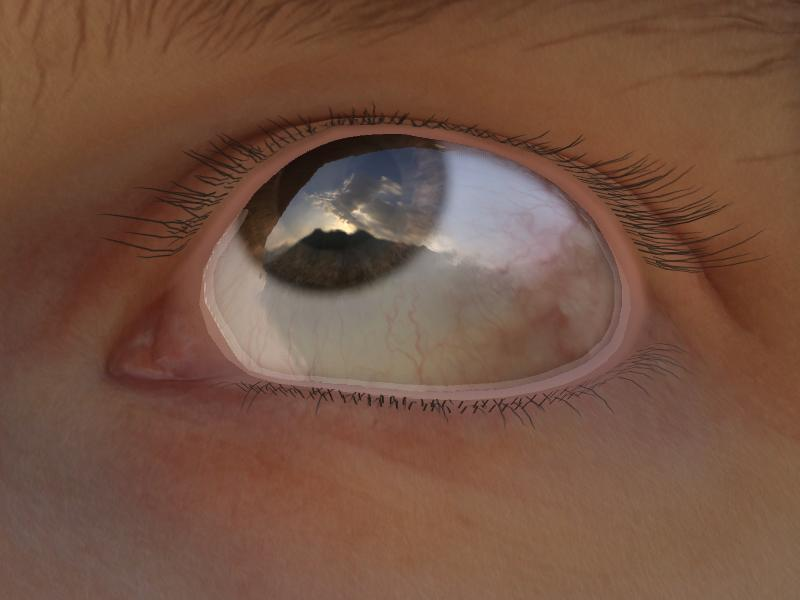eye: (242, 137, 457, 292)
